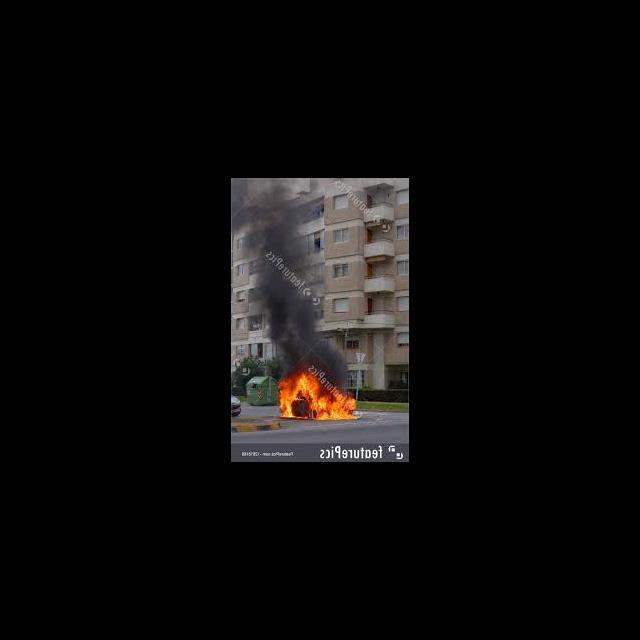Fire: (276, 368, 362, 422)
Smoke: (233, 180, 347, 365)
